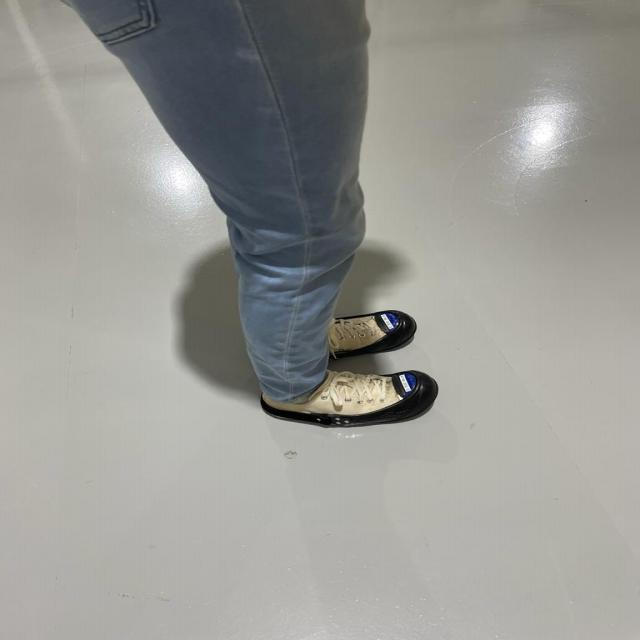shoes: (266, 363, 444, 435), (322, 300, 432, 360)
